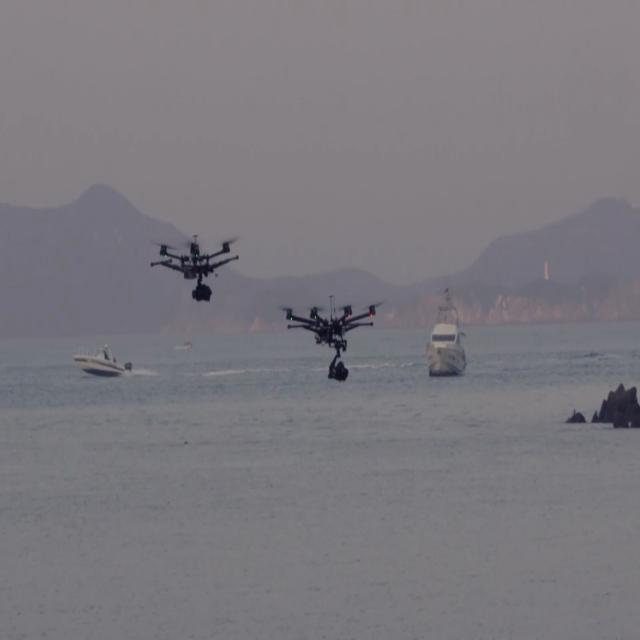drone: (275, 271, 390, 393), (147, 216, 248, 312)
